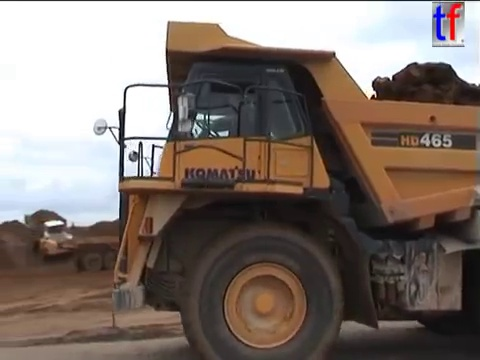truck: (90, 17, 480, 360), (62, 220, 164, 273), (22, 208, 78, 263)
